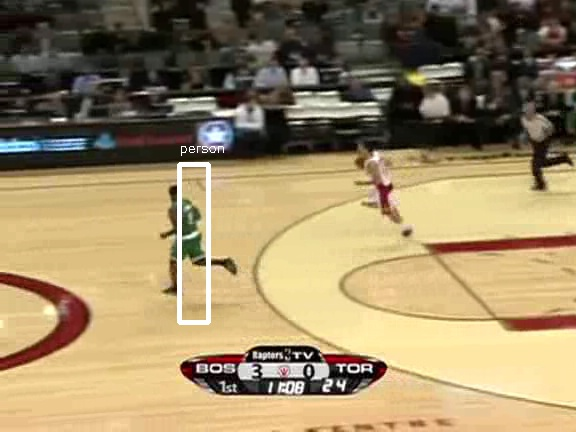person: (171, 191, 205, 272), (170, 191, 204, 272), (172, 191, 206, 272), (171, 190, 205, 271), (171, 192, 205, 273)
target_negative: (255, 52, 564, 330), (307, 3, 537, 287), (120, 371, 282, 381), (380, 86, 389, 203), (396, 247, 555, 251), (550, 6, 575, 22)
